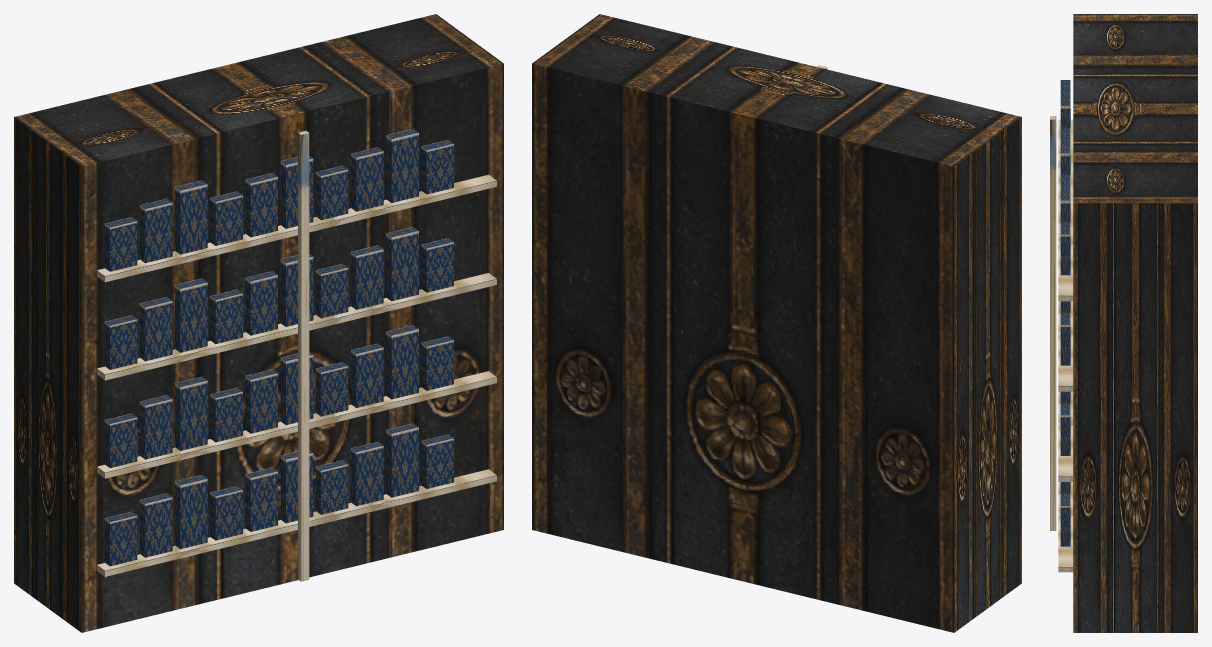
The model's file is china-cabinet.gltf.
The picture shows the model from 3 angles, left to right: view 1: azimuth 30°, elevation 25°; view 2: azimuth 150°, elevation 25°; view 3: azimuth 270°, elevation 25°; orthographic projection. The views are drawn at different scales.
Parts seen in each view (by area): view 1: kit:0:furniture:mahogany:, kit:0:furniture:marble:, kit:0:furniture:gold:; view 2: kit:0:furniture:mahogany:; view 3: kit:0:furniture:mahogany:, kit:0:furniture:gold:, kit:0:furniture:marble:.
Boxes of the visible parts, x1,y1,x2,y2 form: kit:0:furniture:mahogany:: (14,14,503,632); kit:0:furniture:marble:: (104,128,453,566); kit:0:furniture:gold:: (97,130,496,581); kit:0:furniture:mahogany:: (532,14,1021,632); kit:0:furniture:mahogany:: (1073,14,1197,632); kit:0:furniture:gold:: (1050,116,1073,572); kit:0:furniture:marble:: (1060,80,1070,546).
Size of the model in its own units: 1.8 by 1.9 by 0.5925.
3 materials, 3 textured.
